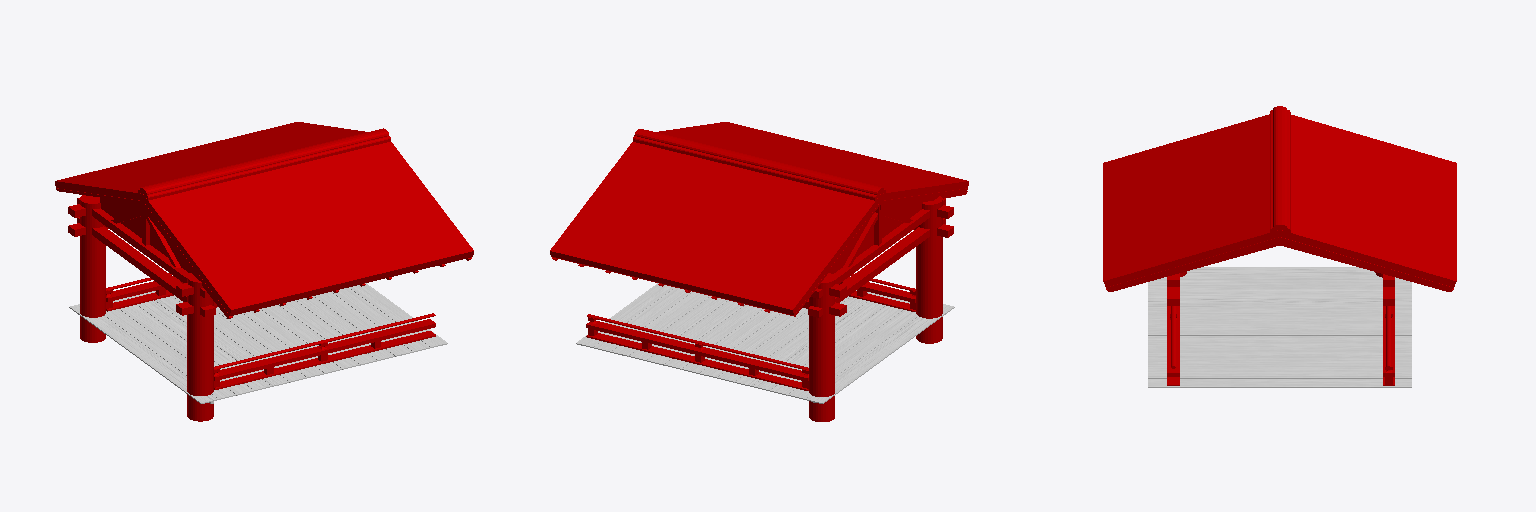
3 views of the same model, side by side, from view 1: azimuth 30°, elevation 25°; view 2: azimuth 150°, elevation 25°; view 3: azimuth 270°, elevation 25° (orthographic).
Parts seen in each view (by area): view 1: 円柱.005; view 2: 円柱.005; view 3: 円柱.005.
Part boxes in pixels (x1,y1,x2,y2): 円柱.005: (55,122,473,421); 円柱.005: (550,122,968,421); 円柱.005: (1103,106,1456,387).
Size of the model in its own units: 22.67 by 15.77 by 26.65.
2 materials, 1 textured.